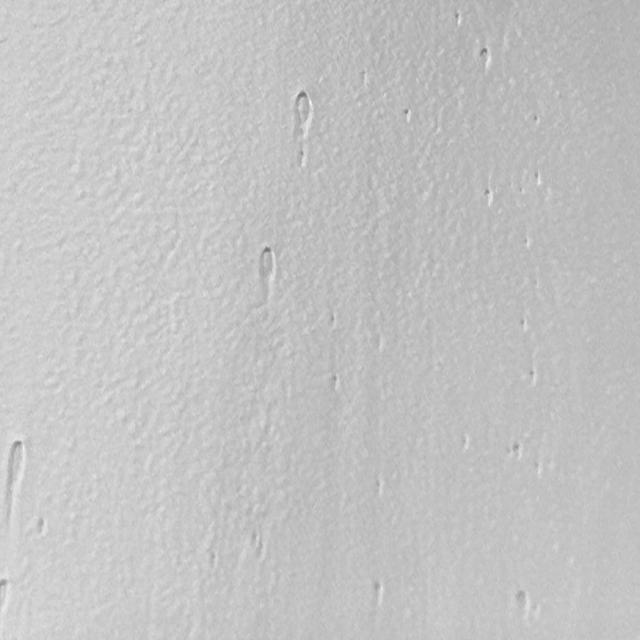pin holes: (286, 90, 318, 135), (253, 244, 280, 290), (4, 439, 30, 486), (512, 587, 535, 618), (367, 578, 387, 607), (475, 45, 495, 74), (246, 533, 266, 561), (0, 577, 15, 610), (32, 516, 51, 540), (525, 366, 544, 389), (206, 550, 223, 572), (372, 476, 388, 499), (509, 440, 526, 461), (328, 372, 344, 394), (295, 149, 309, 173), (516, 315, 532, 335), (481, 187, 496, 208), (460, 435, 474, 454), (532, 462, 546, 481), (519, 234, 533, 251), (451, 10, 464, 28), (534, 169, 546, 188), (401, 109, 414, 125), (532, 114, 544, 129), (328, 312, 337, 329)
